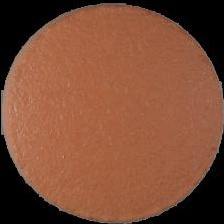13668-009: (0, 0, 224, 224)
